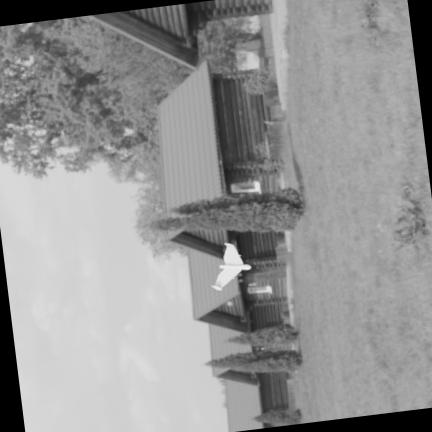Shahed: (211, 243, 250, 289)
